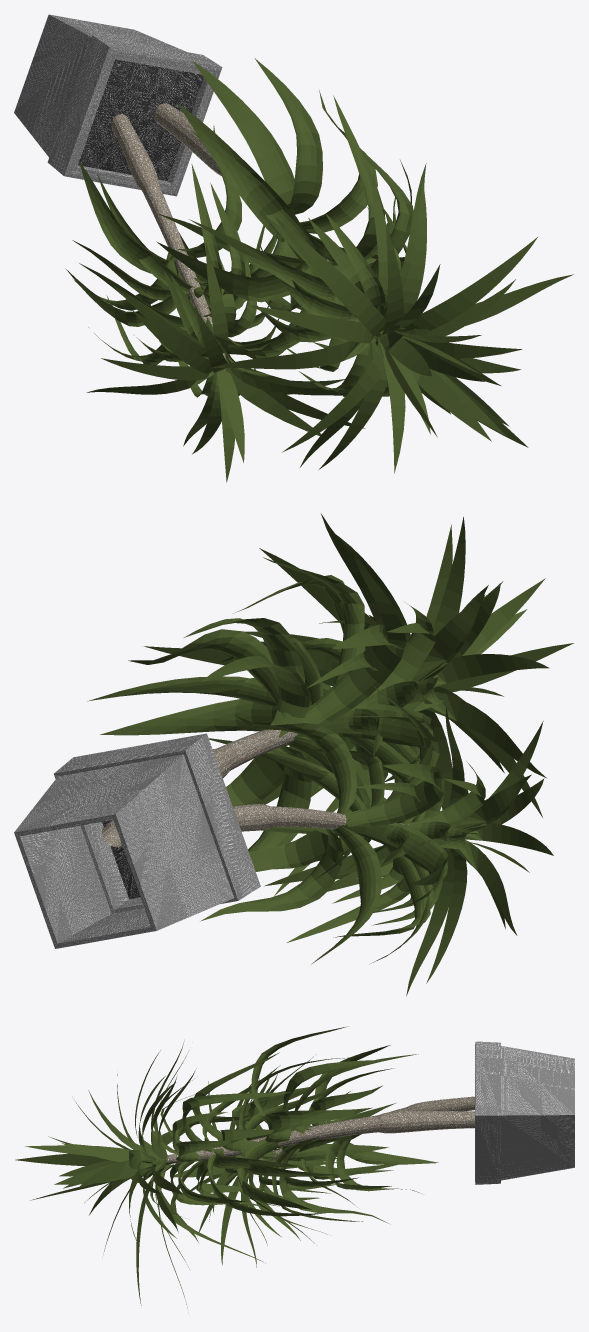
3 views of the same model, one above another, from view 1: azimuth 30°, elevation 25°; view 2: azimuth 150°, elevation 25°; view 3: azimuth 270°, elevation 25° (orthographic). The views are drawn at different scales.
Visible parts, largest first — view 1: potted plant; view 2: potted plant; view 3: potted plant.
Part boxes in pixels (<box>): potted plant: <box>14,14,573,482</box>; potted plant: <box>14,513,573,995</box>; potted plant: <box>15,1026,574,1307</box>.
Size of the model in its own units: 46.13 by 35.26 by 75.51.
